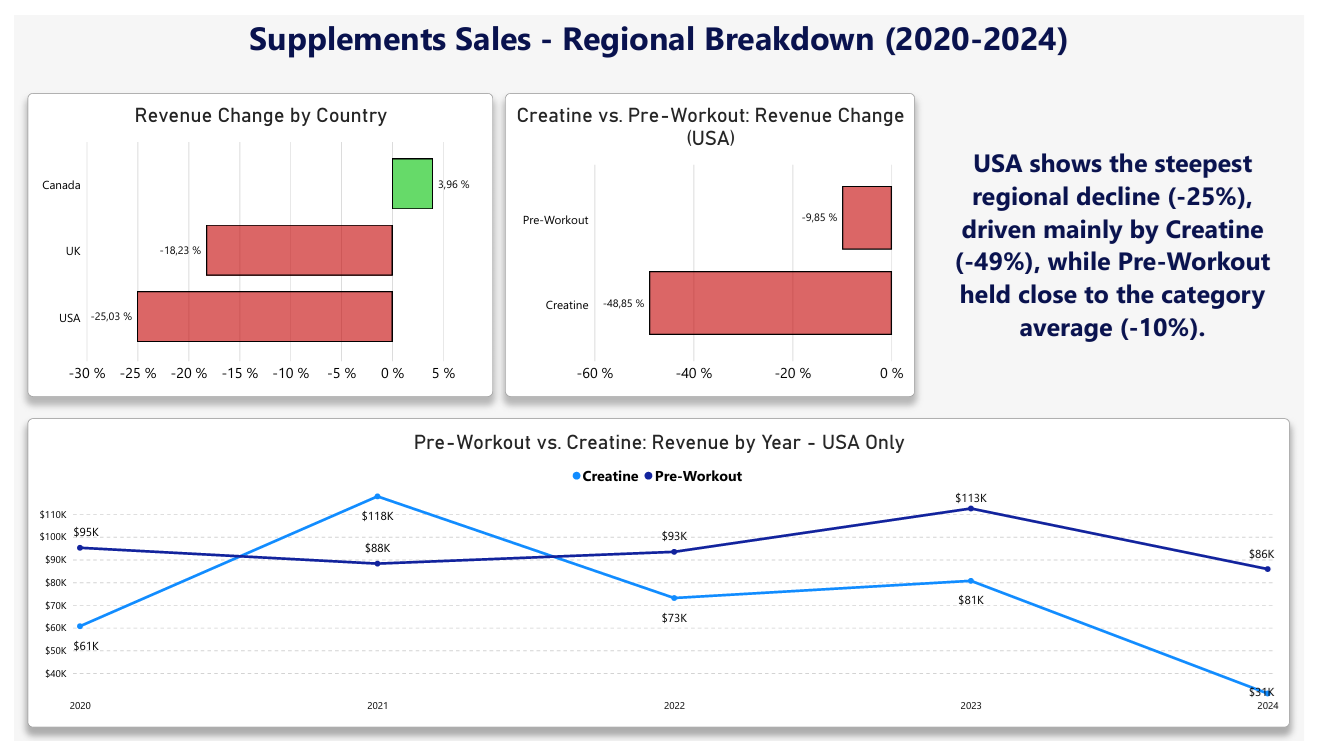

The page's visual inventory and layout, read from the dashboard file:
{"tool":"powerbi","page":{"name":"Regional Breakdown","canvas":[1920,1080],"ordinal":2},"visuals":[{"type":"barChart","title":"Creatine vs. Pre-Workout: Revenue Change (USA)","fields":{"Category":["dim_products.product"],"Y":["_medidas.revenue_change_pct"]},"box":[730.7,116.4,610.3,451.7],"z":0},{"type":"textbox","box":[0,0,1919.8,117.4],"z":1000},{"type":"lineChart","title":"Pre-Workout vs. Creatine: Revenue by Year - USA Only","fields":{"Category":["fact_sales.date.Variación.Jerarquía de fechas.Año"],"Series":["dim_products.product"],"Y":["_Medidas.total_revenue(K)"]},"box":[20.1,600.2,1879,459.7],"z":2000},{"type":"textbox","box":[1371.1,192.7,528,375.4],"z":3000},{"type":"barChart","title":"Revenue Change by Country","fields":{"Category":["dim_locations.location"],"Y":["_medidas.revenue_change_pct"]},"box":[20.1,116.4,692.6,451.7],"z":4000}]}

Visuals, with their boxes in screenshot pixels (x1, y1, x2, y2), scaled from the page's 1920x1080 canvas onto the 1321x755 screenshot:
"Creatine vs. Pre-Workout: Revenue Change (USA)" barChart: (x1=503, y1=81, x2=923, y2=397)
textbox: (x1=0, y1=0, x2=1320, y2=82)
"Pre-Workout vs. Creatine: Revenue by Year - USA Only" lineChart: (x1=14, y1=420, x2=1307, y2=741)
textbox: (x1=943, y1=135, x2=1307, y2=397)
"Revenue Change by Country" barChart: (x1=14, y1=81, x2=490, y2=397)
